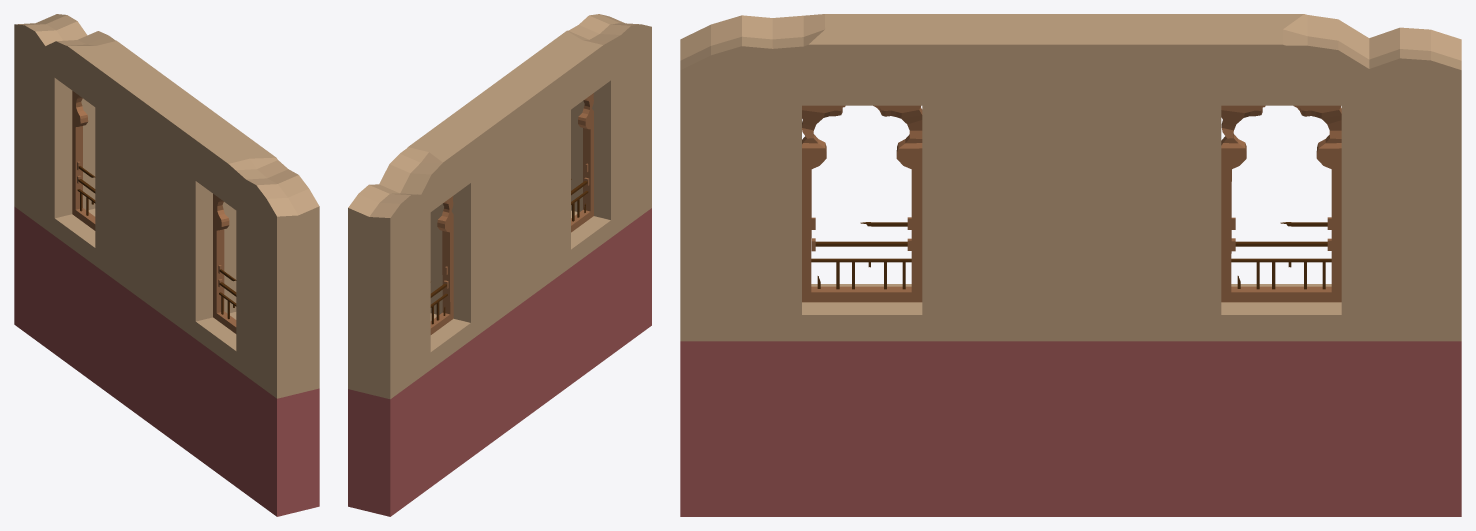
File: Wall Window.fbx
3 views of the same model, side by side, from view 1: azimuth 30°, elevation 25°; view 2: azimuth 150°, elevation 25°; view 3: azimuth 270°, elevation 25° (orthographic). The views are drawn at different scales.
Visible parts, largest first — view 1: Wall Window; view 2: Wall Window; view 3: Wall Window.
Part boxes in pixels (<box>): Wall Window: <box>14,14,319,516</box>; Wall Window: <box>348,14,651,516</box>; Wall Window: <box>680,14,1461,516</box>.
Size of the model in its own units: 1500 by 1000 by 140.
